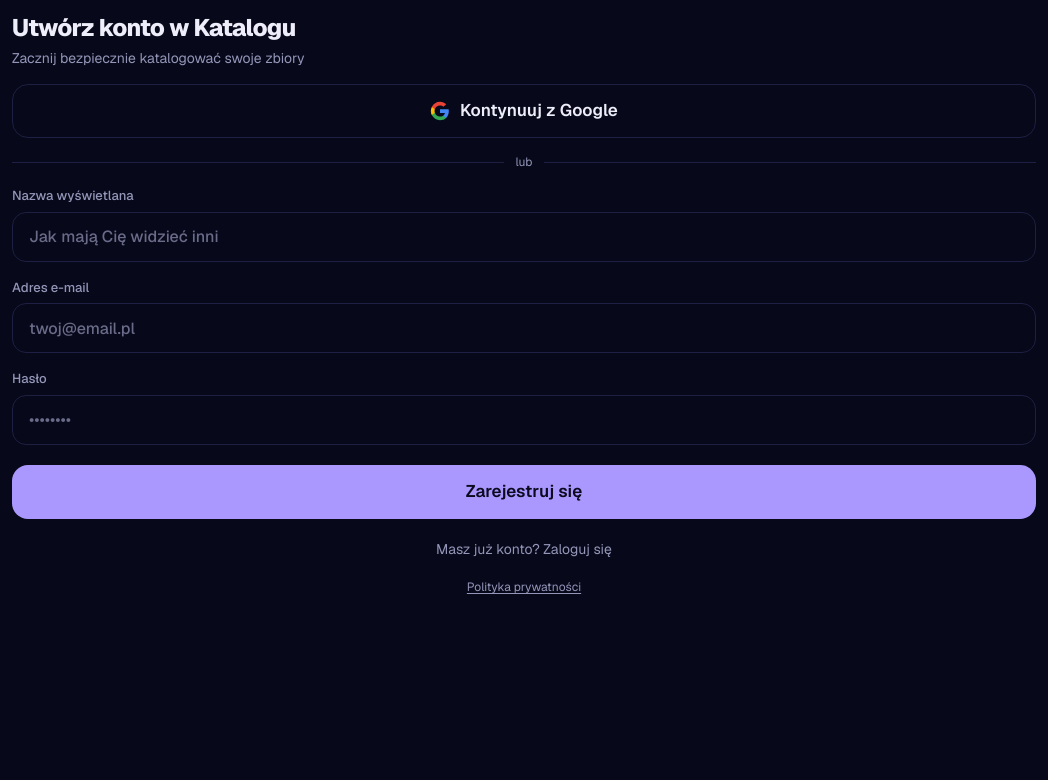
Test case: AuthForm › shows Google button in sign-up mode too and reports OAuth errors
The width and height of the screenshot is (1048, 780).
Click the button "Kontynuuj z Google" at (524, 111), box [12,84,1036,138]
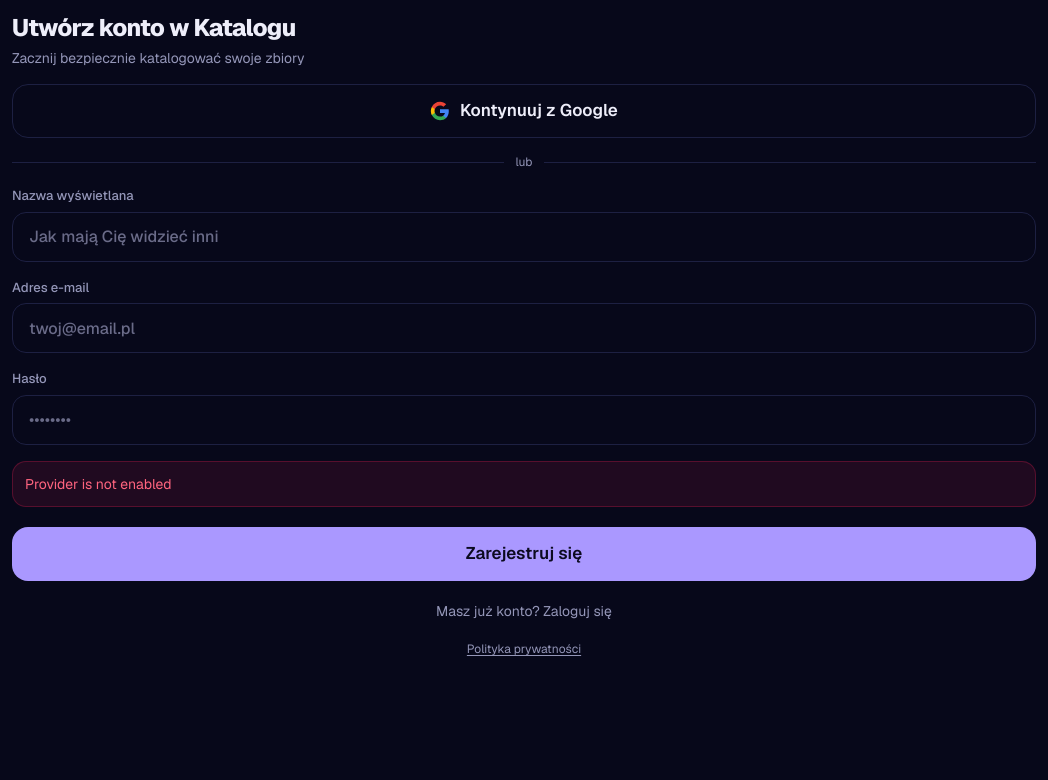
expect the message reads "Provider is not enabled": met, box [25,474,172,492]
